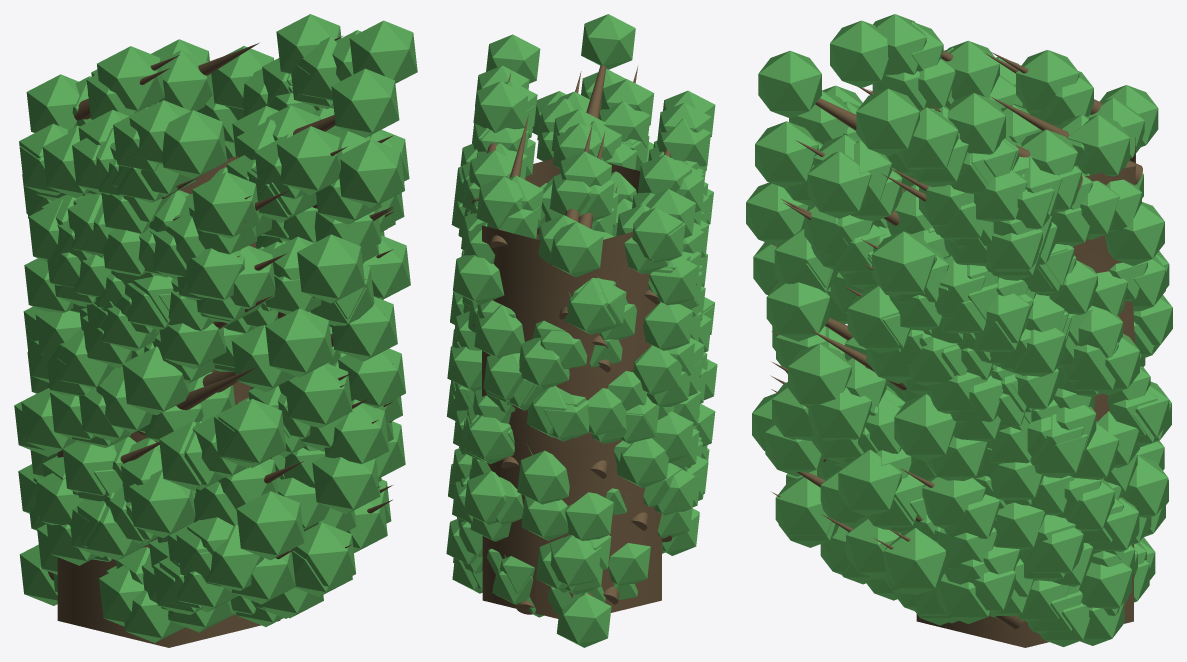
Rendered from tree_var_987.glb.
The picture shows the model from 3 angles, left to right: view 1: azimuth 30°, elevation 25°; view 2: azimuth 150°, elevation 25°; view 3: azimuth 270°, elevation 25°; orthographic projection. The views are drawn at different scales.
Visible parts, largest first — view 1: tree_var_987; view 2: tree_var_987; view 3: tree_var_987.
Part boxes in pixels (x1,y1,x2,y2): tree_var_987: [14, 14, 417, 647]; tree_var_987: [446, 14, 717, 647]; tree_var_987: [746, 14, 1172, 647].
Size of the model in its own units: 2.86 by 5.39 by 3.4.
